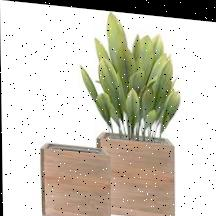cube: (98, 129, 176, 216), (40, 140, 110, 216)
